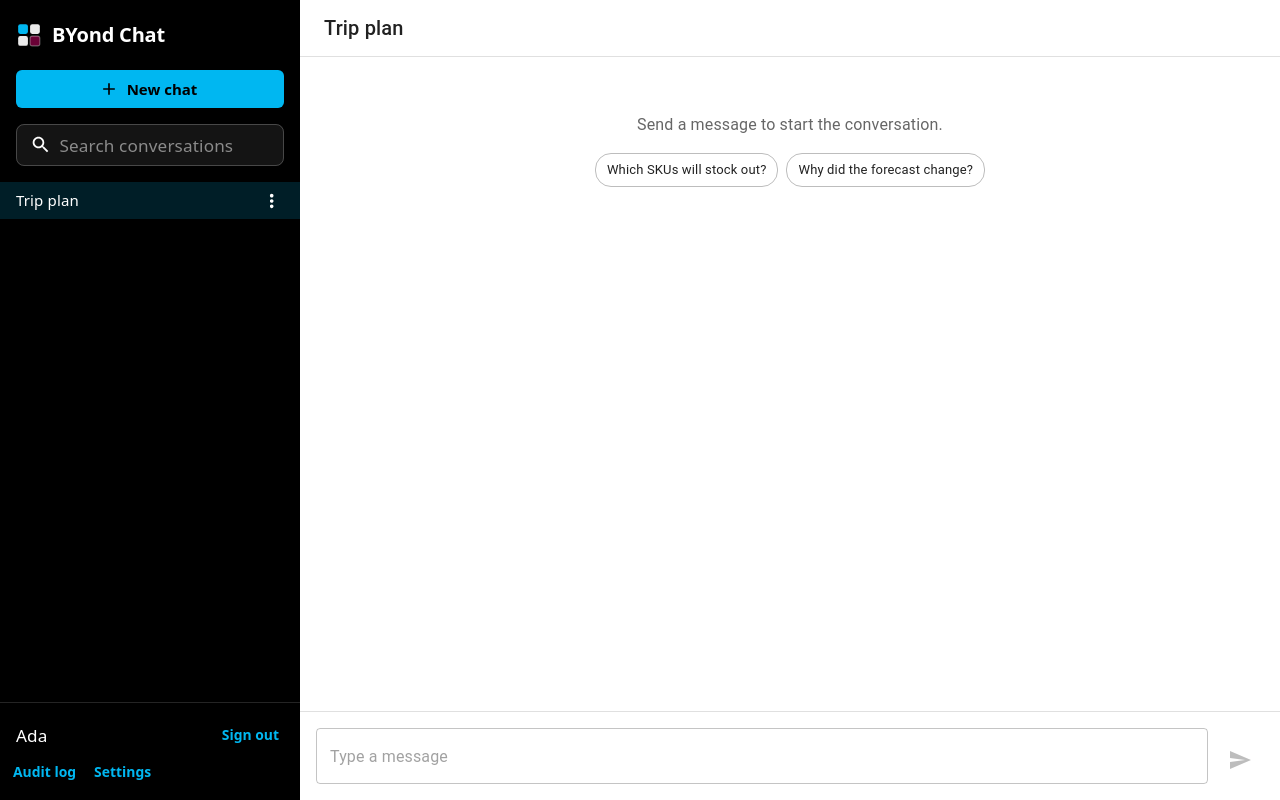
Test case: chat › shows an in-stream error and keeps the text that had arrived
Type "hello" into the text box labelled "message" at point(762, 756), box 330,744 -> 1194,768
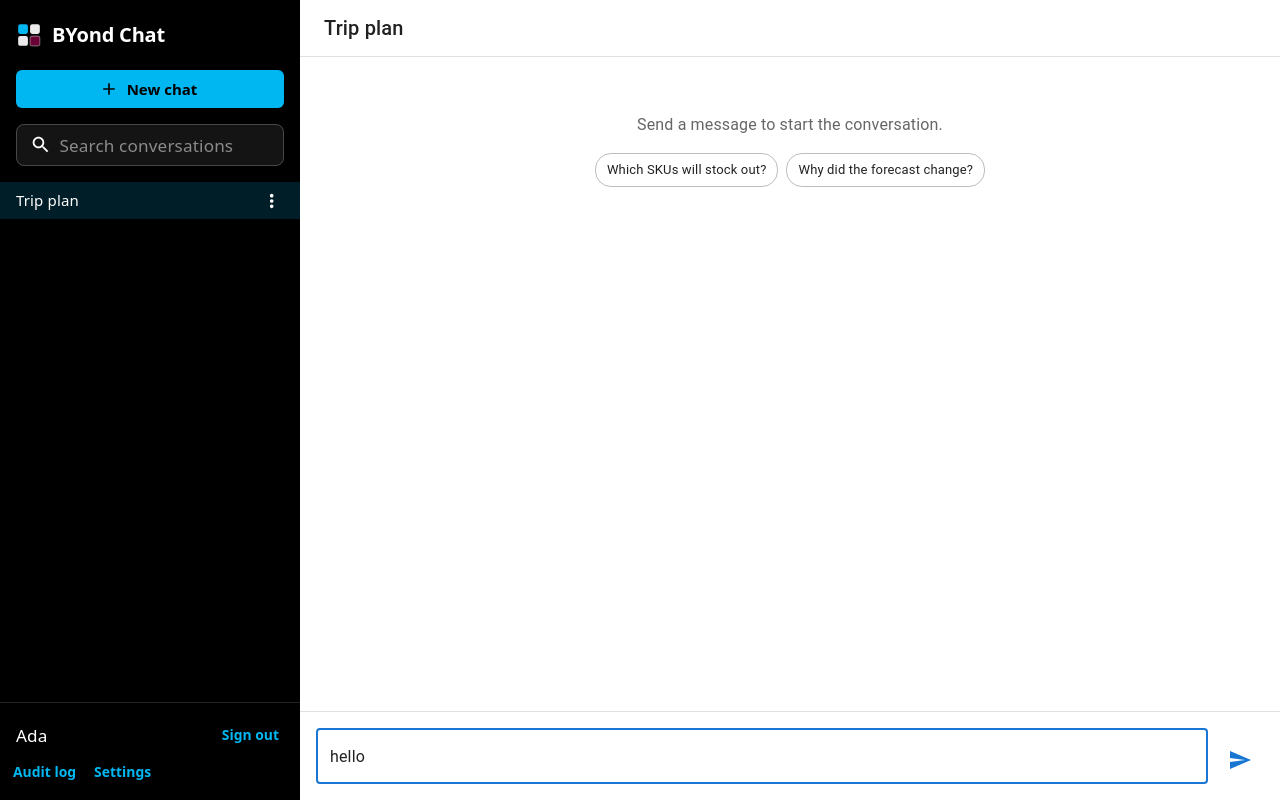
Click the button named "Send message" at point(1240, 760), box 1216,736 -> 1264,784
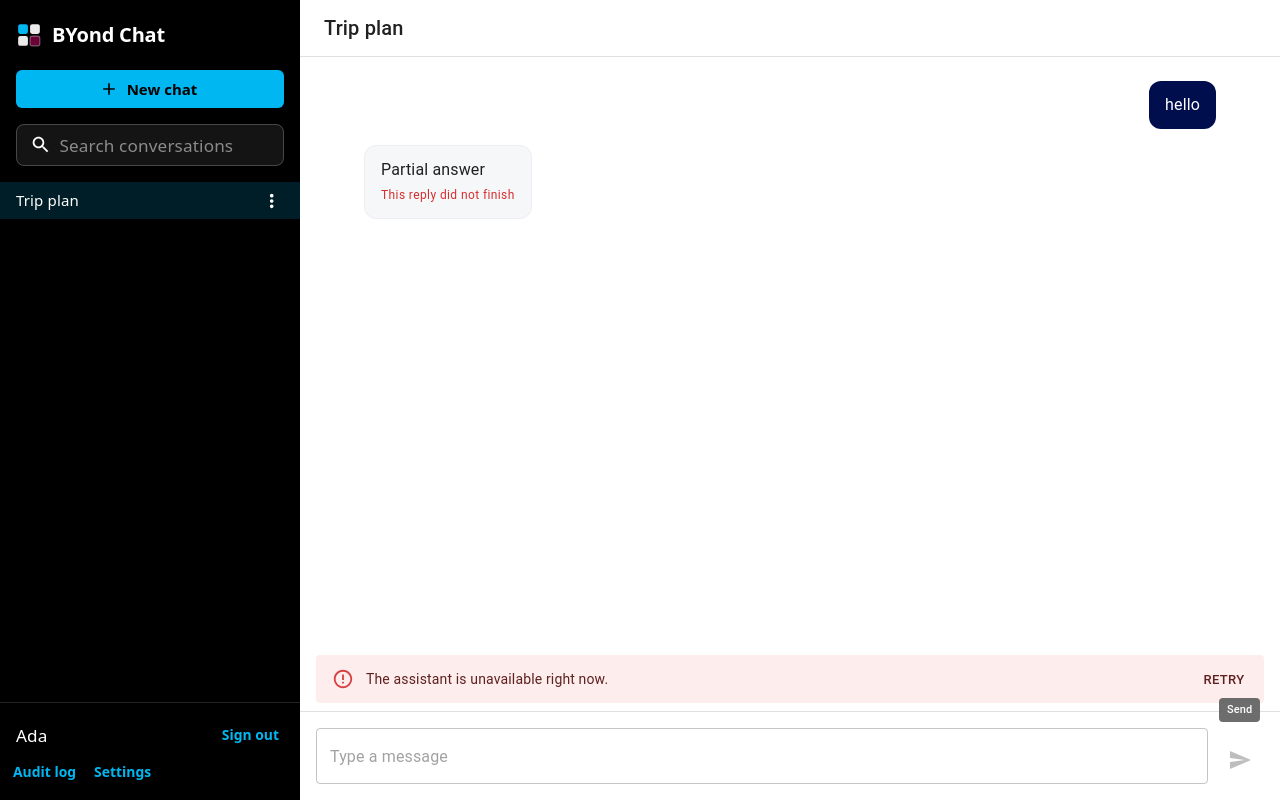
Expected: the text "Partial answer" is shown, 381,160 -> 485,179
Expected: the text "The assistant is unavailable right now." is shown, 366,671 -> 608,687
Expected: the text "This reply did not finish" is shown, 381,186 -> 515,206
